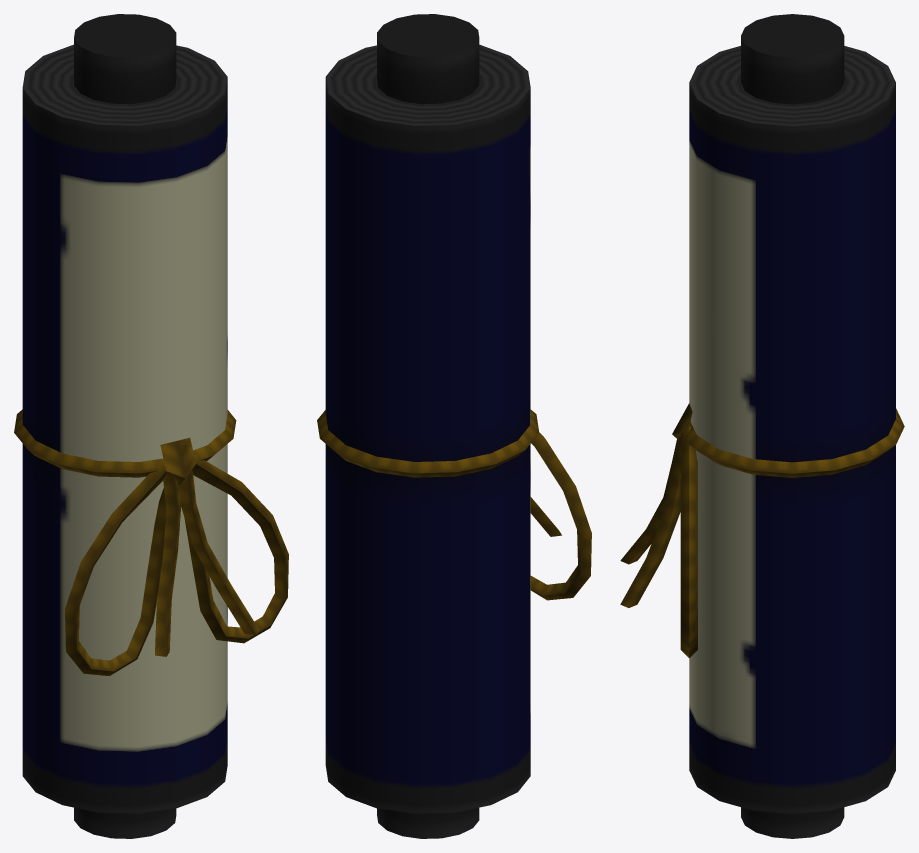
File: makimono1-3.fbx
3 views of the same model, side by side, from view 1: azimuth 30°, elevation 25°; view 2: azimuth 150°, elevation 25°; view 3: azimuth 270°, elevation 25° (orthographic).
Parts seen in each view (by area): view 1: bdef:obj1; view 2: bdef:obj1; view 3: bdef:obj1.
Boxes of the visible parts, x1,y1,x2,y2 form: bdef:obj1: (14, 14, 288, 838); bdef:obj1: (317, 14, 591, 838); bdef:obj1: (620, 14, 904, 838).
Size of the model in its own units: 30 by 100 by 33.
